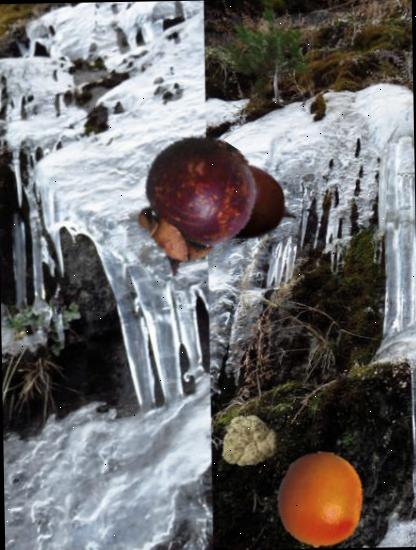Cauliflower: (218, 410, 280, 471)
Grapefruit: (270, 450, 369, 549)
Mangostan: (120, 132, 264, 276)
Tamarillo: (191, 148, 298, 255)
